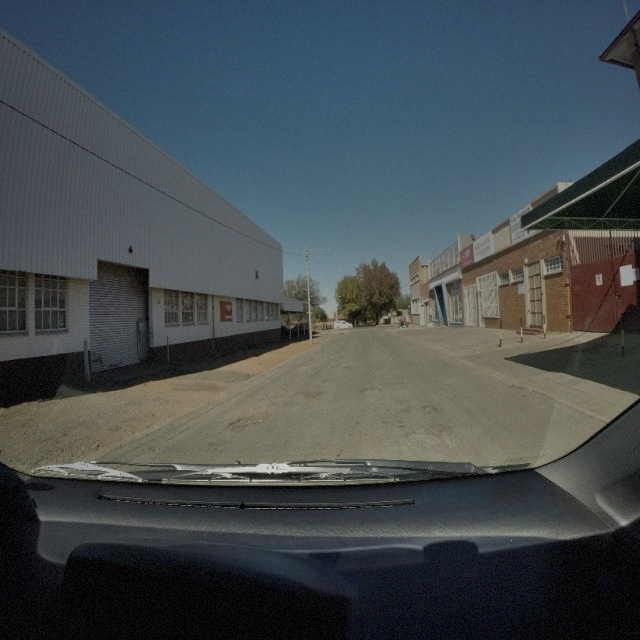pothole: (225, 415, 260, 433), (418, 401, 439, 416), (424, 424, 452, 435), (360, 386, 384, 396), (304, 388, 326, 398)
